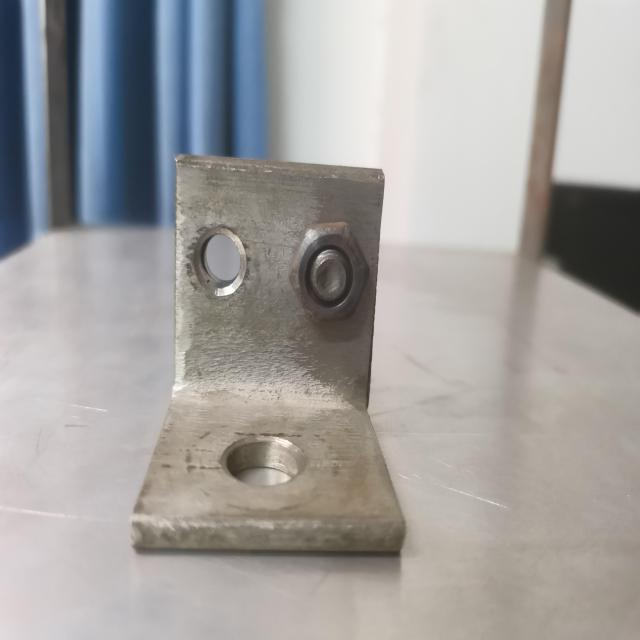bolt nut: (288, 219, 371, 321)
